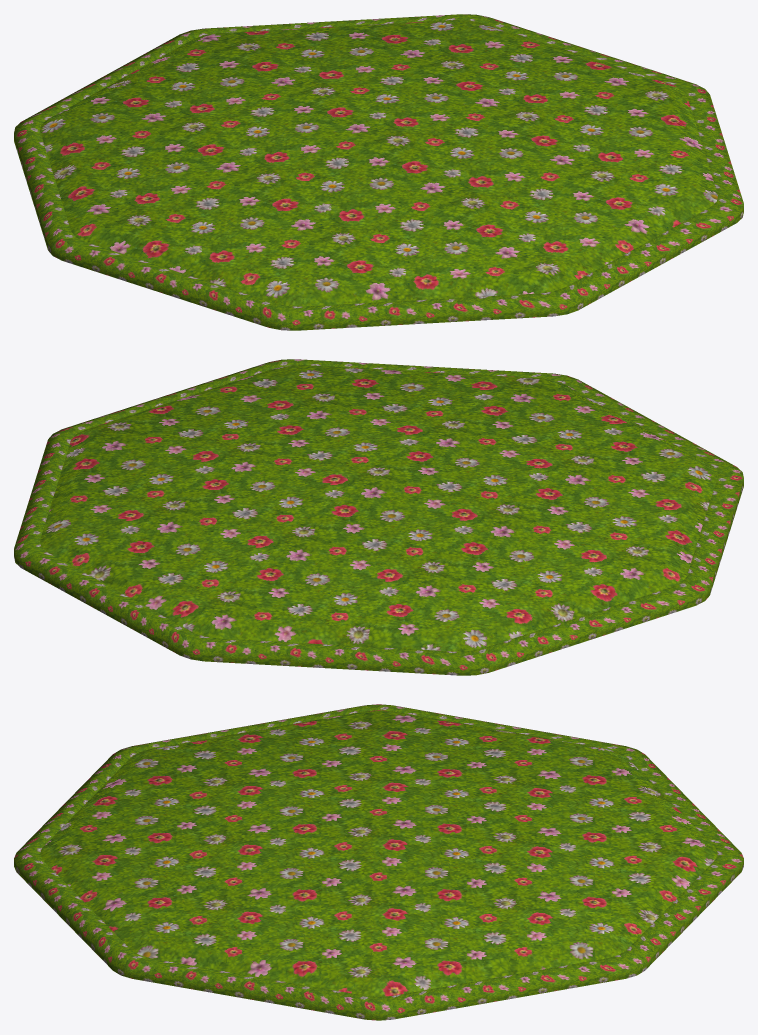
The model's file is garden.glb.
3 renders of one model, top to bottom at view 1: azimuth 30°, elevation 25°; view 2: azimuth 150°, elevation 25°; view 3: azimuth 270°, elevation 25°, orthographic. The views are drawn at different scales.
Visible parts, largest first — view 1: garden; view 2: garden; view 3: garden.
Boxes of the visible parts, box(x1,y1,x2,y2) form: garden: box(14, 14, 743, 330); garden: box(14, 359, 743, 675); garden: box(14, 704, 743, 1020).
Size of the model in its own units: 10.31 by 0.6279 by 10.31.
1 material, 1 textured.
